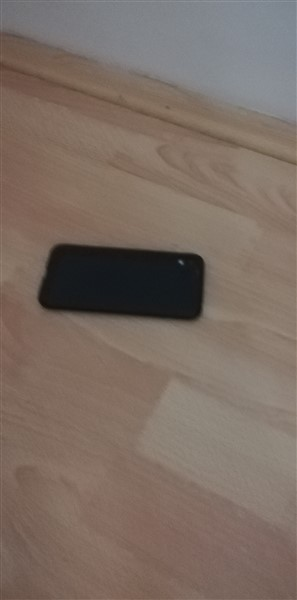telefon: (35, 241, 221, 322)
